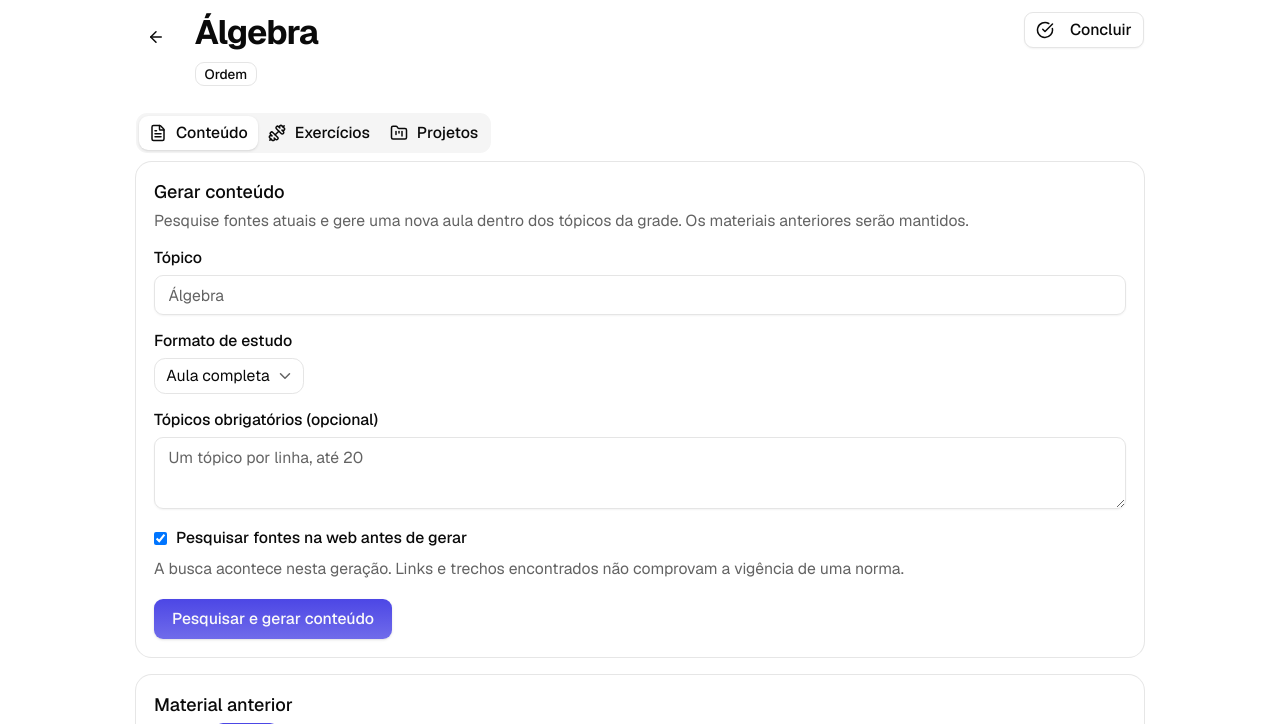
Test: Geração em módulo com materiais existentes › gera outro projeto no perfil selecionado e mantém o anterior
Step 1. Click the tab "Projetos" → {"x": 434, "y": 133}, box [380,116,488,150]
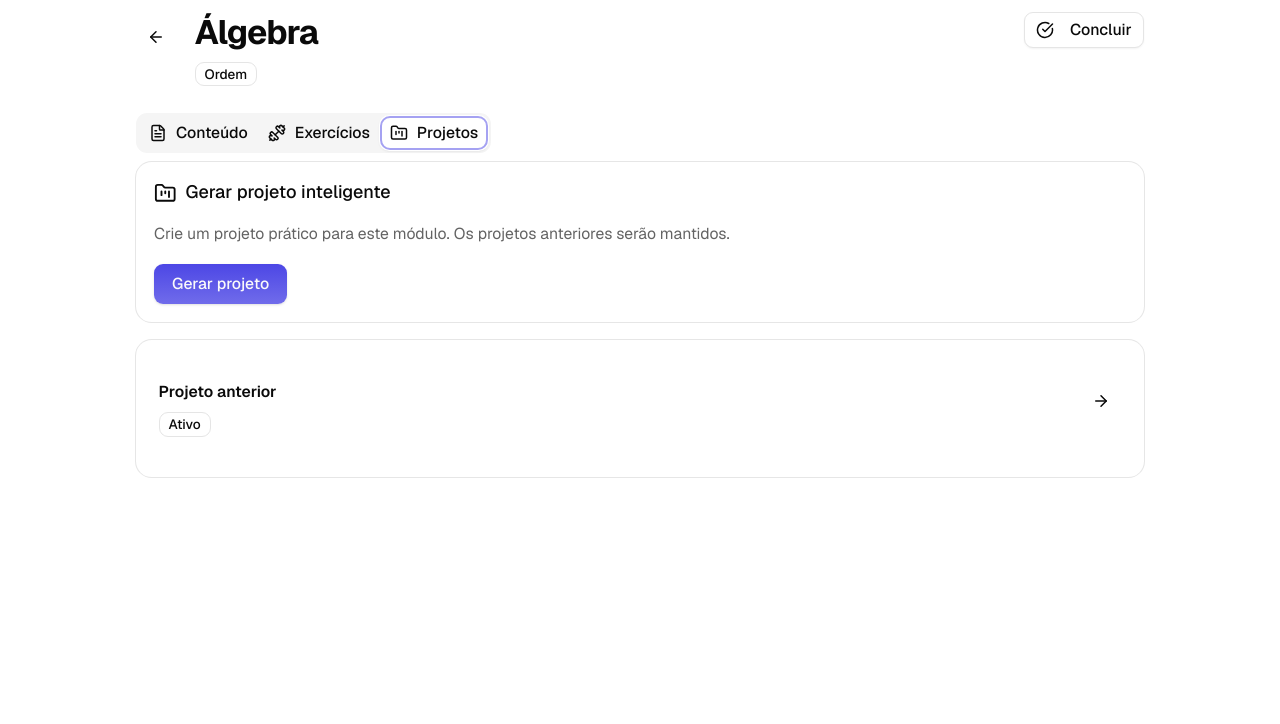
expect the heading "Projeto anterior" is shown: met, box [158,381,277,402]
Step 2. Click the button "Gerar projeto" → {"x": 221, "y": 284}, box [154,264,287,304]
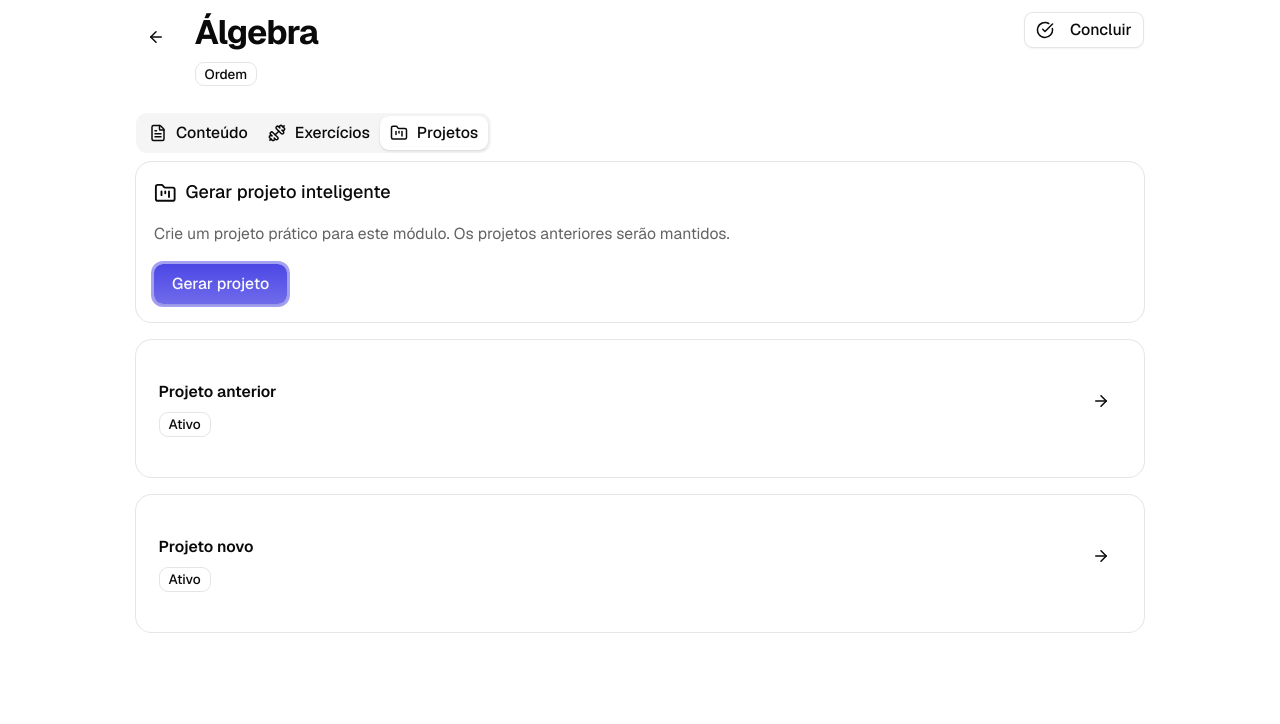
expect the heading "Projeto anterior" is shown: met, box [158,381,277,402]
expect the heading "Projeto novo" is shown: met, box [158,536,254,557]
